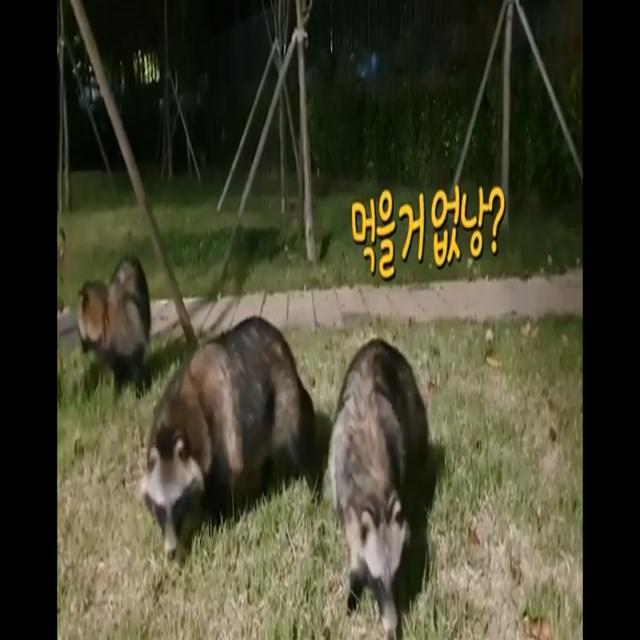racoon: (147, 308, 315, 524), (326, 331, 434, 598), (75, 246, 148, 386)
